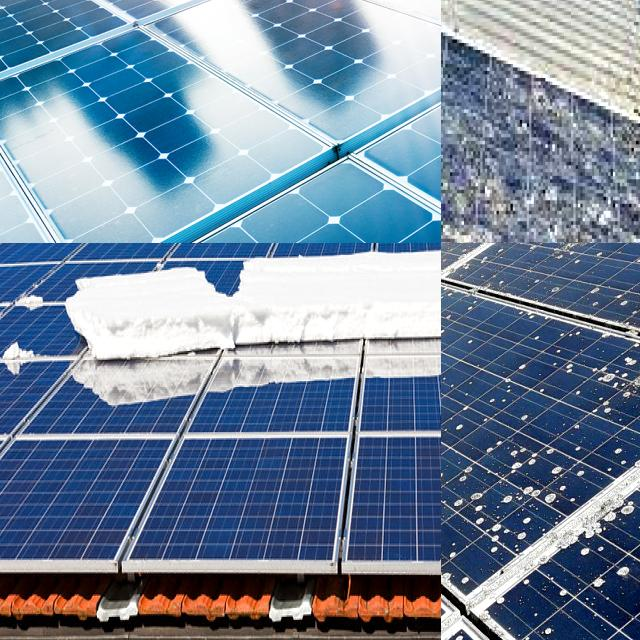bird: (491, 93, 608, 229), (441, 138, 518, 243), (441, 0, 489, 95), (515, 448, 573, 508), (578, 492, 640, 544), (441, 466, 490, 520), (441, 535, 470, 612), (441, 187, 479, 243), (441, 376, 471, 440), (441, 515, 470, 568), (441, 458, 462, 518), (591, 570, 635, 598), (486, 524, 525, 554), (441, 466, 462, 521), (625, 347, 640, 406), (441, 411, 462, 452), (441, 495, 458, 527)
crack: (0, 36, 372, 243), (65, 82, 441, 243), (130, 0, 441, 175), (35, 0, 274, 76), (0, 0, 148, 103)
panel: (59, 274, 236, 410), (100, 243, 219, 301), (313, 306, 412, 370), (81, 326, 198, 379), (225, 243, 316, 302), (214, 324, 302, 361), (331, 245, 400, 283), (0, 251, 29, 329), (0, 329, 30, 382), (6, 284, 56, 314), (410, 243, 441, 270), (0, 243, 28, 265)
